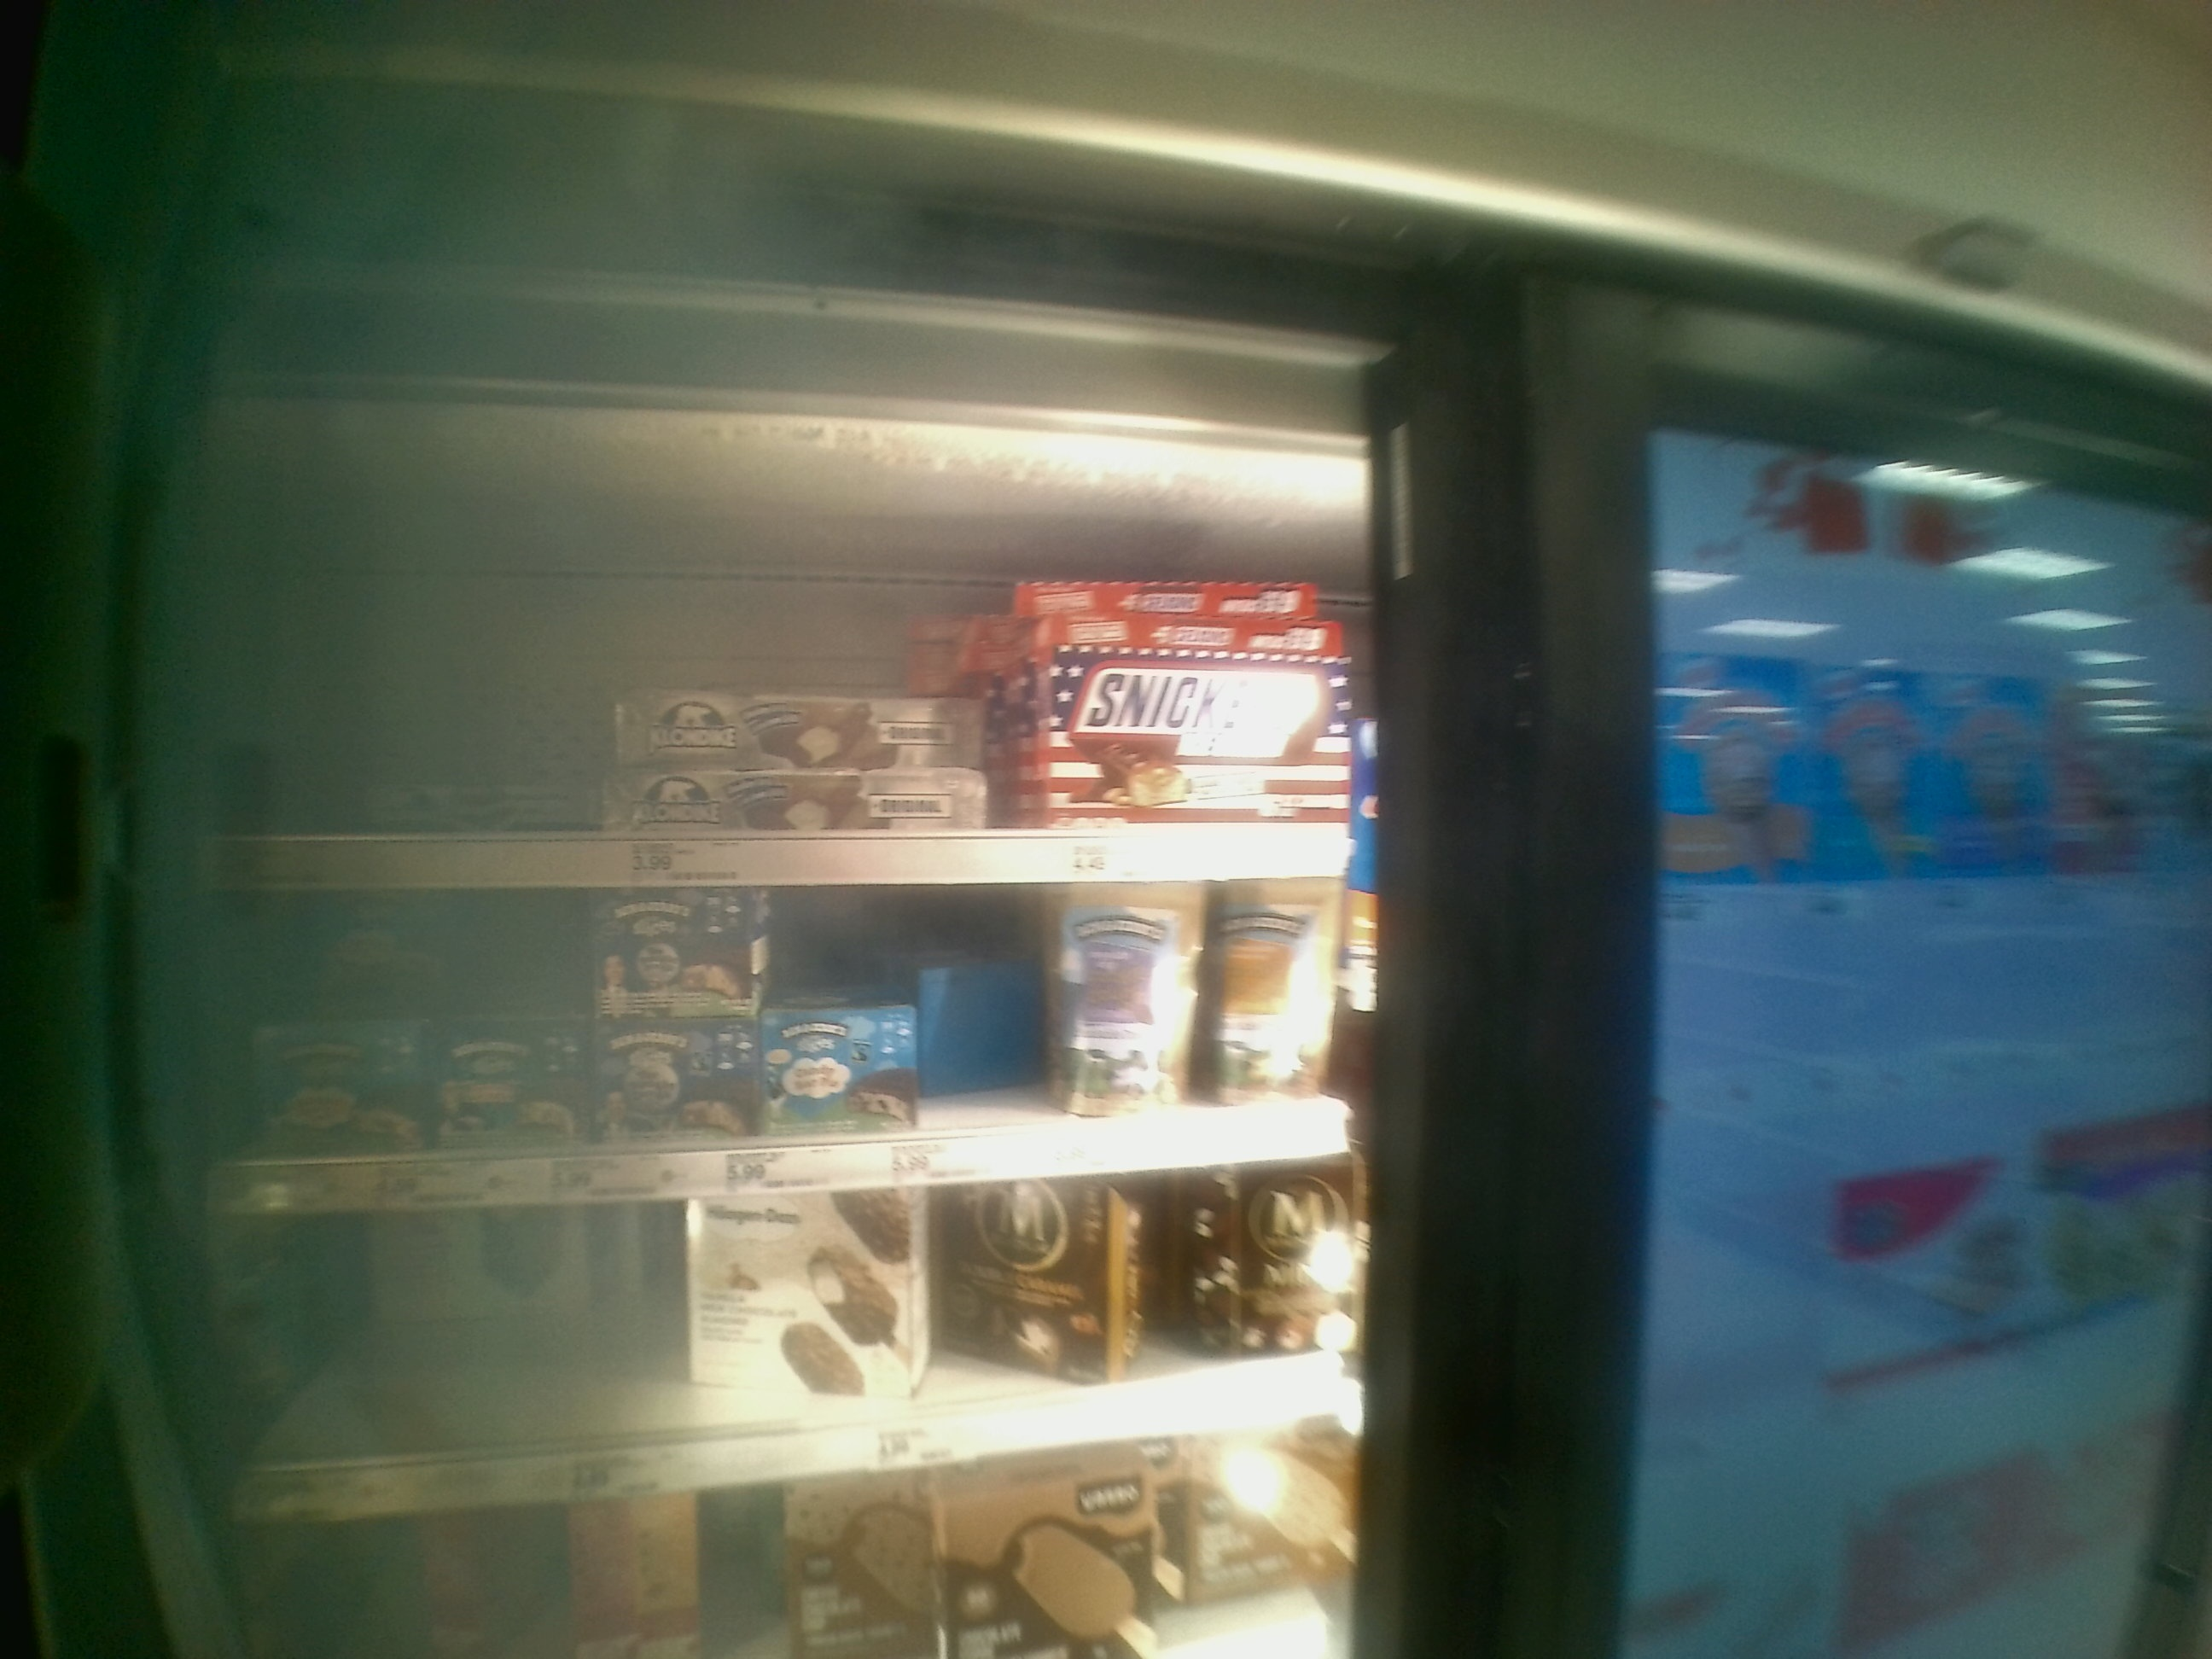shelf: (169, 894, 1367, 1202)
